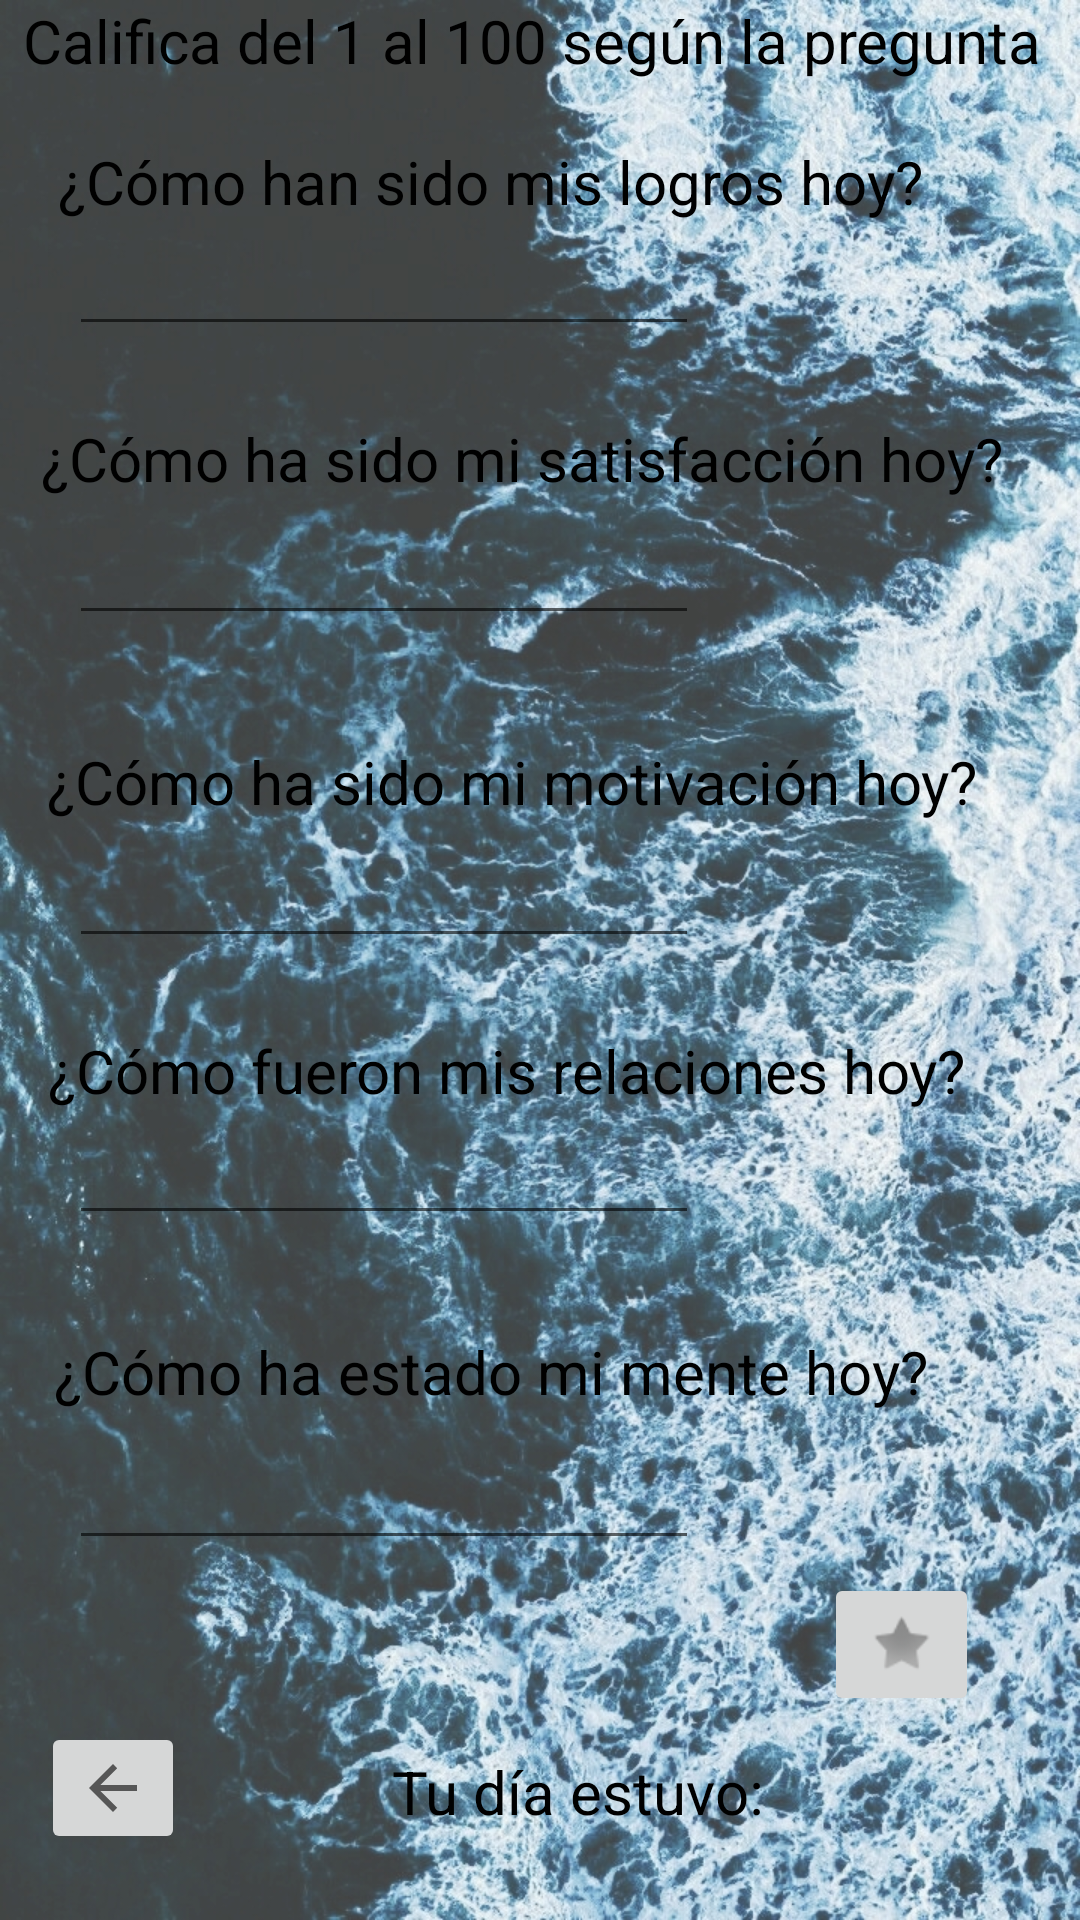

Named icons in this screenshot (1080×1920) and their centers, point (x, y):
star off: point (901, 1644)
